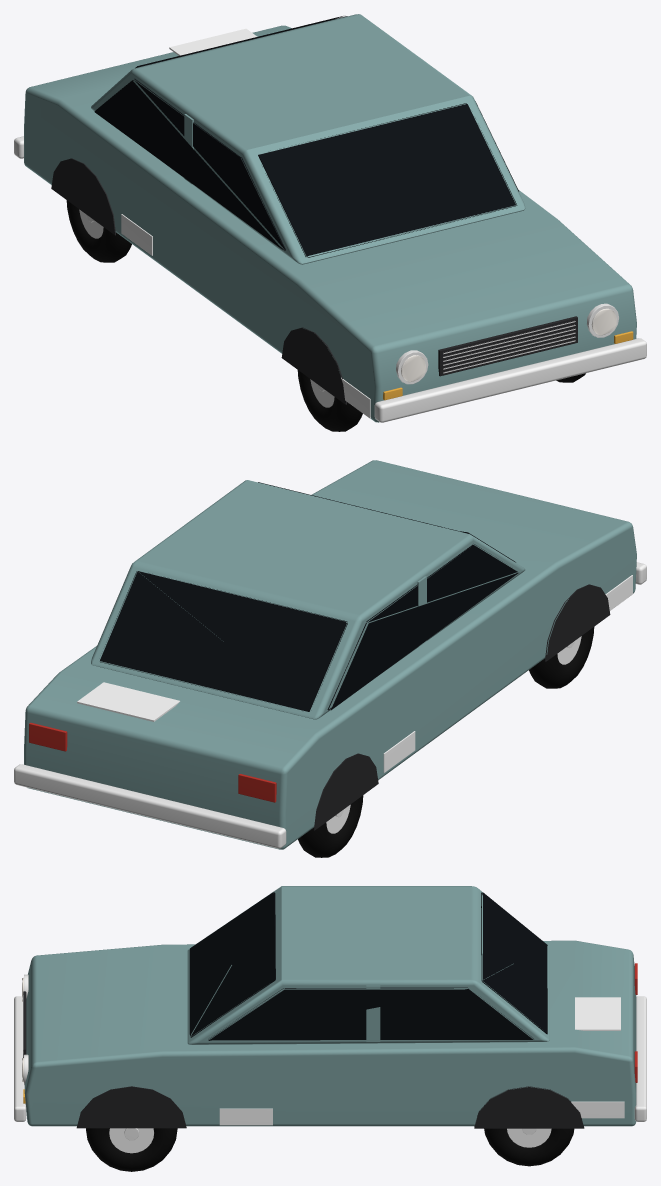
File: vehicle.car.wreck.glb
The picture shows the model from 3 angles, top to bottom: view 1: azimuth 30°, elevation 25°; view 2: azimuth 150°, elevation 25°; view 3: azimuth 270°, elevation 25°; orthographic projection. The views are drawn at different scales.
Parts seen in each view (by area): view 1: main__paint_8aa, main__glass_dark, main__paint_222, main__chrome_eee, main__rubber, main__paint_fff, main__light_ffe; view 2: main__paint_8aa, main__glass_dark, main__chrome_eee, main__paint_222, main__paint_fff, main__rubber, main__light_c32; view 3: main__paint_8aa, main__glass_dark, main__paint_222, main__paint_fff, main__rubber, main__chrome_eee.
Boxes of the visible parts, x1,y1,x2,y2 form: main__paint_8aa: [24, 14, 636, 422]; main__glass_dark: [94, 16, 518, 257]; main__paint_222: [51, 158, 577, 404]; main__chrome_eee: [14, 136, 646, 422]; main__rubber: [66, 200, 585, 431]; main__paint_fff: [79, 28, 370, 418]; main__light_ffe: [401, 308, 616, 382]; main__paint_8aa: [24, 460, 636, 849]; main__glass_dark: [100, 482, 518, 711]; main__chrome_eee: [14, 562, 646, 848]; main__paint_222: [314, 584, 610, 830]; main__paint_fff: [77, 575, 632, 833]; main__rubber: [298, 627, 594, 857]; main__light_c32: [29, 722, 276, 802]; main__paint_8aa: [24, 886, 636, 1126]; main__glass_dark: [189, 892, 547, 1040]; main__paint_222: [23, 991, 584, 1128]; main__paint_fff: [109, 997, 624, 1153]; main__rubber: [86, 1128, 574, 1171]; main__chrome_eee: [14, 974, 646, 1140].
Size of the model in its own units: 1.74 by 1.37 by 4.14.
